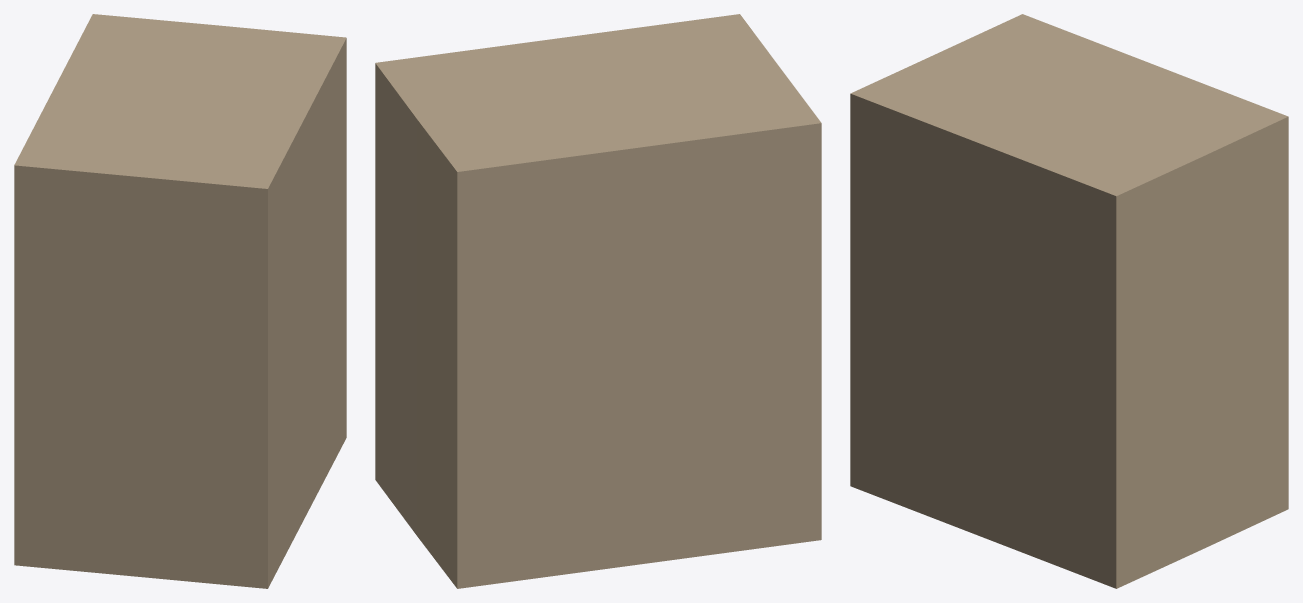
File: bld_108161989.dae
3 views of the same model, side by side, from view 1: azimuth 30°, elevation 25°; view 2: azimuth 150°, elevation 25°; view 3: azimuth 270°, elevation 25° (orthographic). The views are drawn at different scales.
Visible parts, largest first — view 1: bld_108161989; view 2: bld_108161989; view 3: bld_108161989.
Boxes of the visible parts, x1,y1,x2,y2 form: bld_108161989: [14, 14, 346, 588]; bld_108161989: [375, 14, 821, 588]; bld_108161989: [850, 14, 1288, 588].
Size of the model in its own units: 7.96 by 8.09 by 8.
